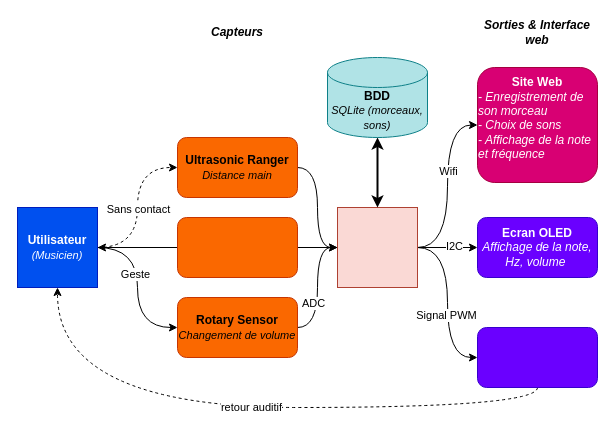
Some shapes in this 615 by 430 pixel diagram are drawn without their labels. Here are the shapes that lost their labels. From the top down, the box of each, then its label:
(176, 216, 298, 278): Bouton/Touch Enregistrement
(336, 206, 418, 288): Raspberry Pi
(476, 326, 598, 388): Speaker Plus Diffusion du son généré
